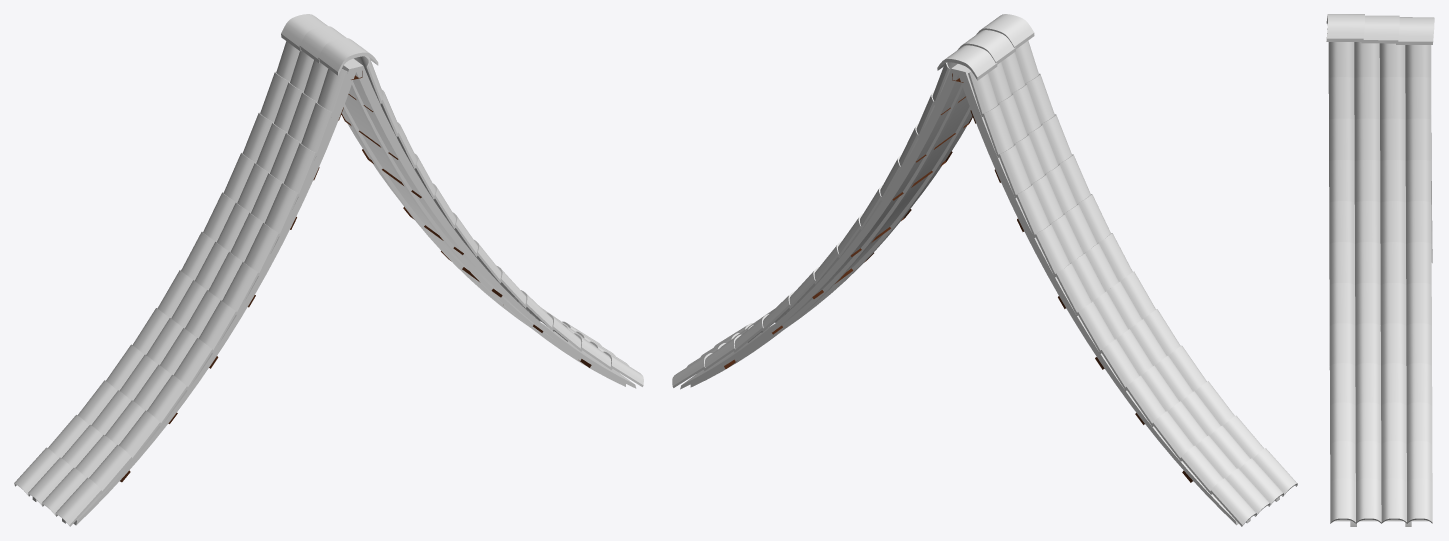
The model's file is L_Roof_NoFrame.fbx.
The picture shows the model from 3 angles, left to right: view 1: azimuth 30°, elevation 25°; view 2: azimuth 150°, elevation 25°; view 3: azimuth 270°, elevation 25°; orthographic projection. The views are drawn at different scales.
Visible parts, largest first — view 1: roof tile no move.001, L_Roof_NoFrame, Cube.021; view 2: roof tile no move.001, L_Roof_NoFrame, Cube.021; view 3: roof tile no move.001, L_Roof_NoFrame.
Boxes of the visible parts, x1=… form: roof tile no move.001: x1=14, y1=14, x2=643, y2=526; L_Roof_NoFrame: x1=32, y1=58, x2=636, y2=525; Cube.021: x1=120, y1=71, x2=591, y2=482; roof tile no move.001: x1=672, y1=14, x2=1297, y2=526; L_Roof_NoFrame: x1=680, y1=64, x2=1279, y2=525; Cube.021: x1=724, y1=73, x2=1192, y2=482; roof tile no move.001: x1=1326, y1=14, x2=1434, y2=523; L_Roof_NoFrame: x1=1334, y1=45, x2=1431, y2=526.
Bounding box in the file's own units: 1296 × 875 × 224.
